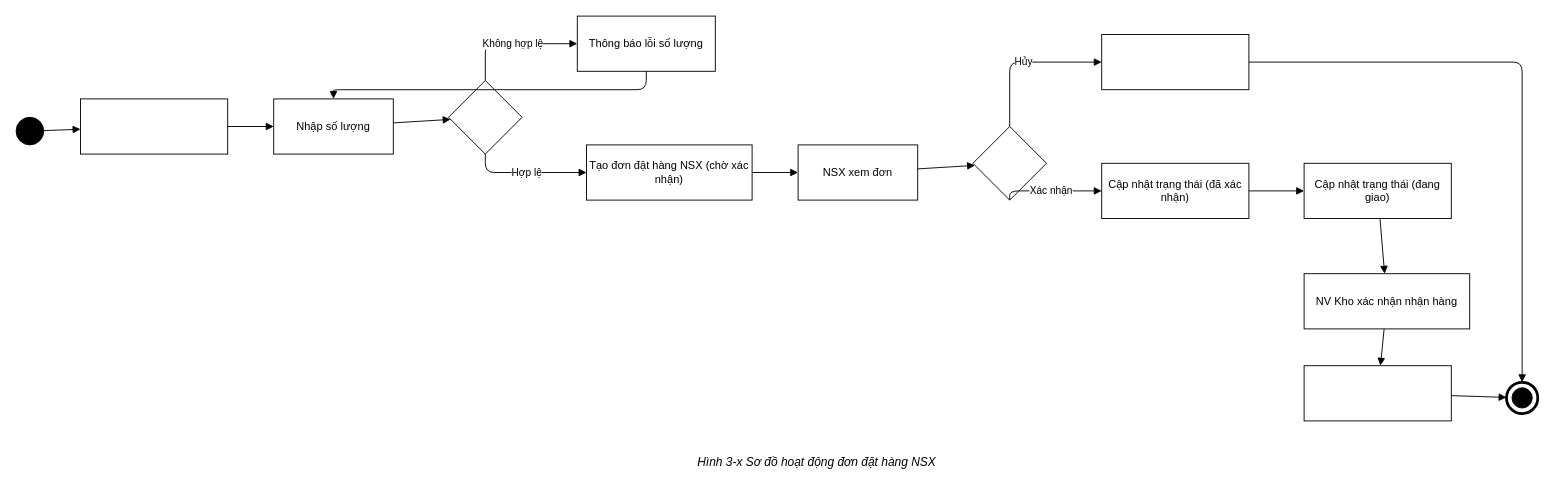
The diagram is 1555 pixels wide and 492 high, and some of its shapes have lost their labels. Each missing label, with the box of its shape:
Admin xem báo giá, tick SP: (80, 98, 228, 154)
Cập nhật trạng thái (đã hủy): (1101, 34, 1249, 90)
Cập nhật trạng thái (đã nhận hàng): (1303, 365, 1451, 421)
